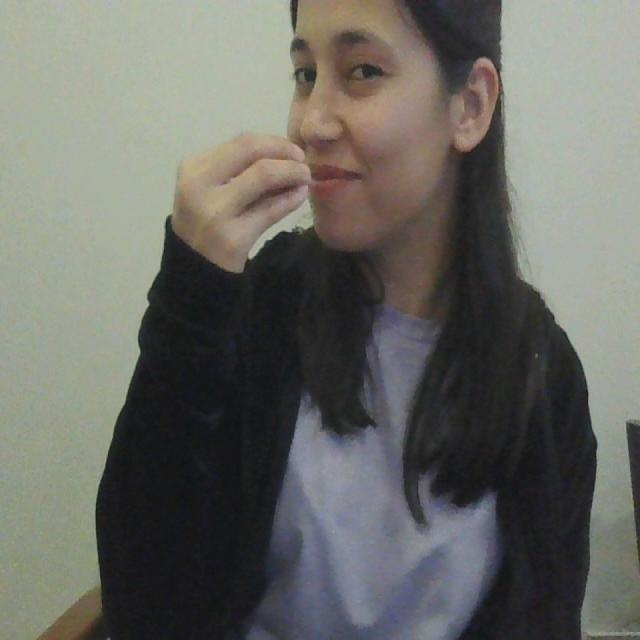Yemek: (156, 126, 368, 227)
